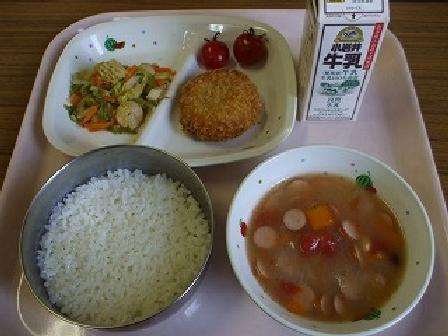Cherry tomatoes: (191, 18, 279, 75)
Milk: (286, 0, 403, 125)
Rice: (22, 152, 205, 335)
Soups: (243, 147, 437, 328)
cutlet: (174, 71, 276, 145)
salad with sauce: (68, 50, 166, 138)
